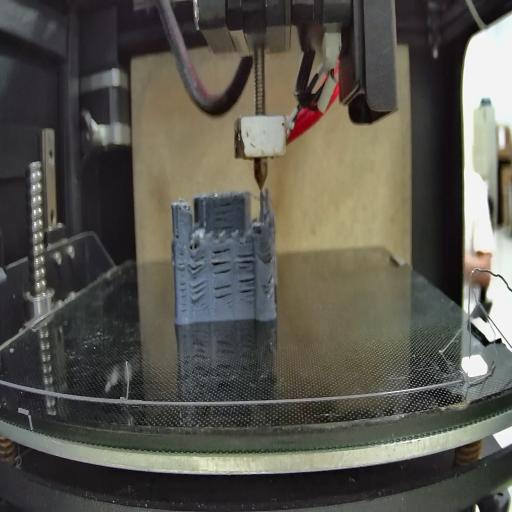cracks: (212, 198, 236, 232), (210, 246, 232, 276), (177, 254, 187, 314), (214, 284, 236, 307), (186, 252, 206, 275), (236, 250, 254, 272), (238, 278, 256, 300), (190, 280, 206, 304), (262, 244, 273, 263), (265, 275, 273, 288), (175, 228, 181, 243)
